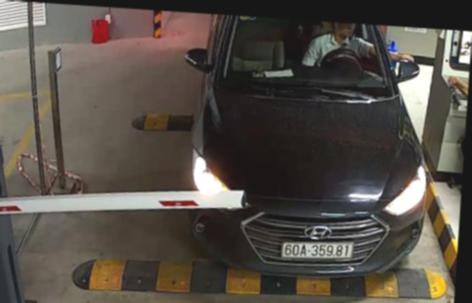License_Plate: (283, 238, 356, 265)
